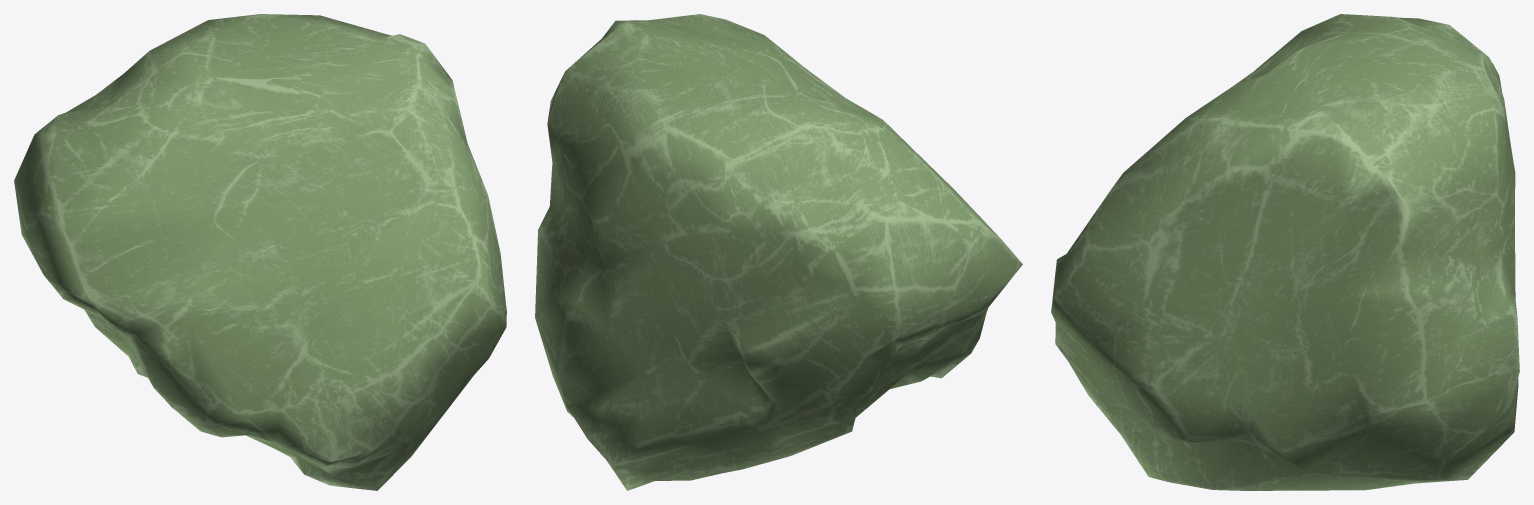
File: stone1.glb
3 views of the same model, side by side, from view 1: azimuth 30°, elevation 25°; view 2: azimuth 150°, elevation 25°; view 3: azimuth 270°, elevation 25° (orthographic). The views are drawn at different scales.
Visible parts, largest first — view 1: Small_rock_3_low_collision; view 2: Small_rock_3_low_collision; view 3: Small_rock_3_low_collision.
Boxes of the visible parts, x1,y1,x2,y2 form: Small_rock_3_low_collision: (14, 14, 506, 490); Small_rock_3_low_collision: (535, 14, 1022, 490); Small_rock_3_low_collision: (1051, 14, 1519, 490).
Bounding box in the file's own units: 2 × 1.91 × 1.96.
1 material, 1 textured.
